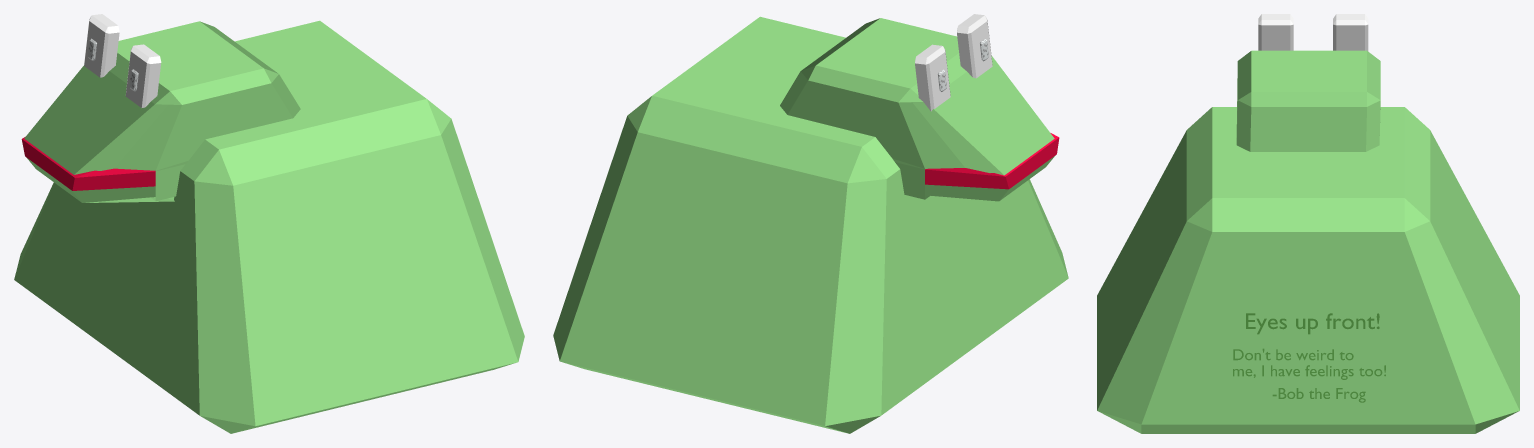
File: item-bob-the-frog.glb
The picture shows the model from 3 angles, left to right: view 1: azimuth 30°, elevation 25°; view 2: azimuth 150°, elevation 25°; view 3: azimuth 270°, elevation 25°; orthographic projection. The views are drawn at different scales.
Size of the model in its own units: 6.08 by 5.03 by 6.46.
5 materials, 1 textured.
